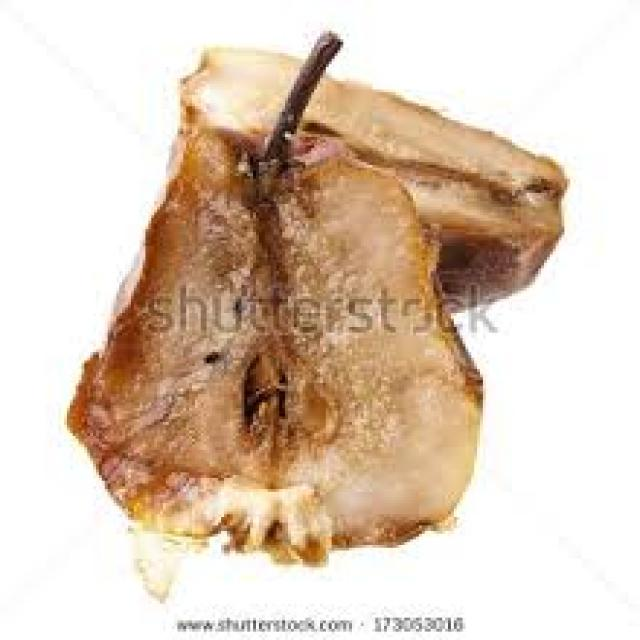organic waste: (64, 28, 483, 553), (172, 45, 562, 310)
